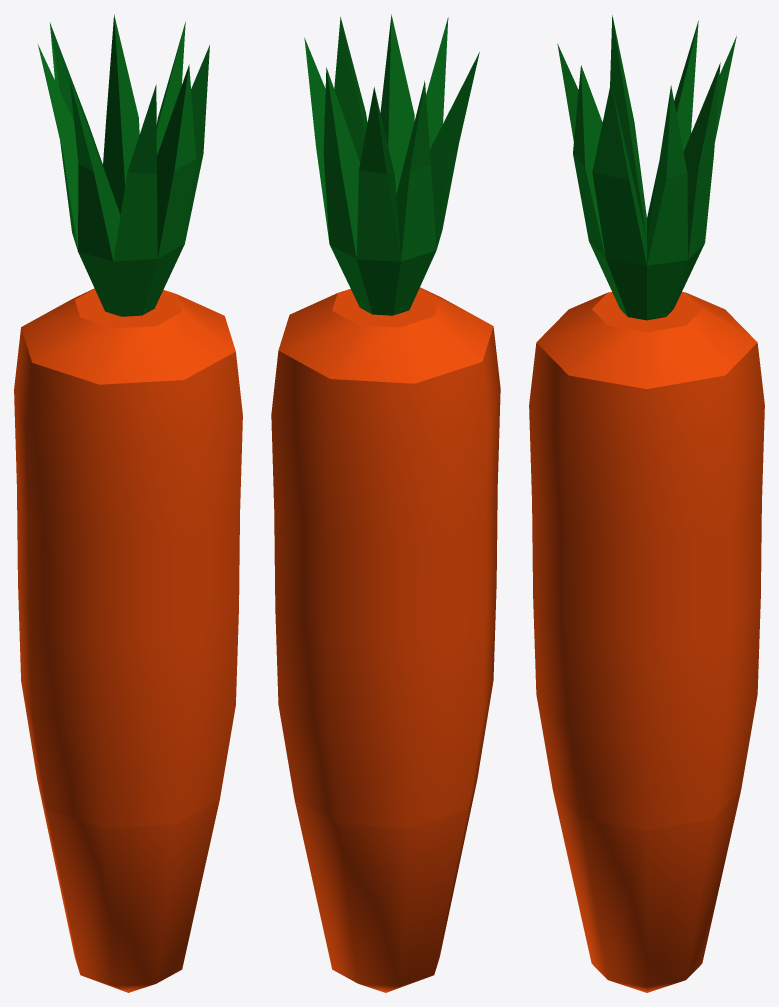
The model's file is CAROTTE.fbx.
3 renders of one model, left to right at view 1: azimuth 30°, elevation 25°; view 2: azimuth 150°, elevation 25°; view 3: azimuth 270°, elevation 25°, orthographic.
Visible parts, largest first — view 1: Carotte; view 2: Carotte; view 3: Carotte.
Part boxes in pixels (x1,y1,x2,y2): Carotte: [14, 14, 242, 992]; Carotte: [271, 14, 500, 992]; Carotte: [529, 15, 764, 992].
Bounding box in the file's own units: 4.81 × 21.2 × 4.81.
